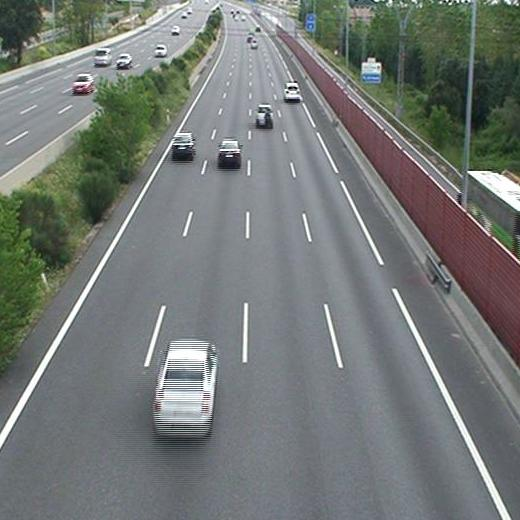car: (152, 341, 216, 433), (171, 134, 194, 153), (219, 142, 240, 160), (255, 104, 272, 124), (284, 82, 301, 100)
